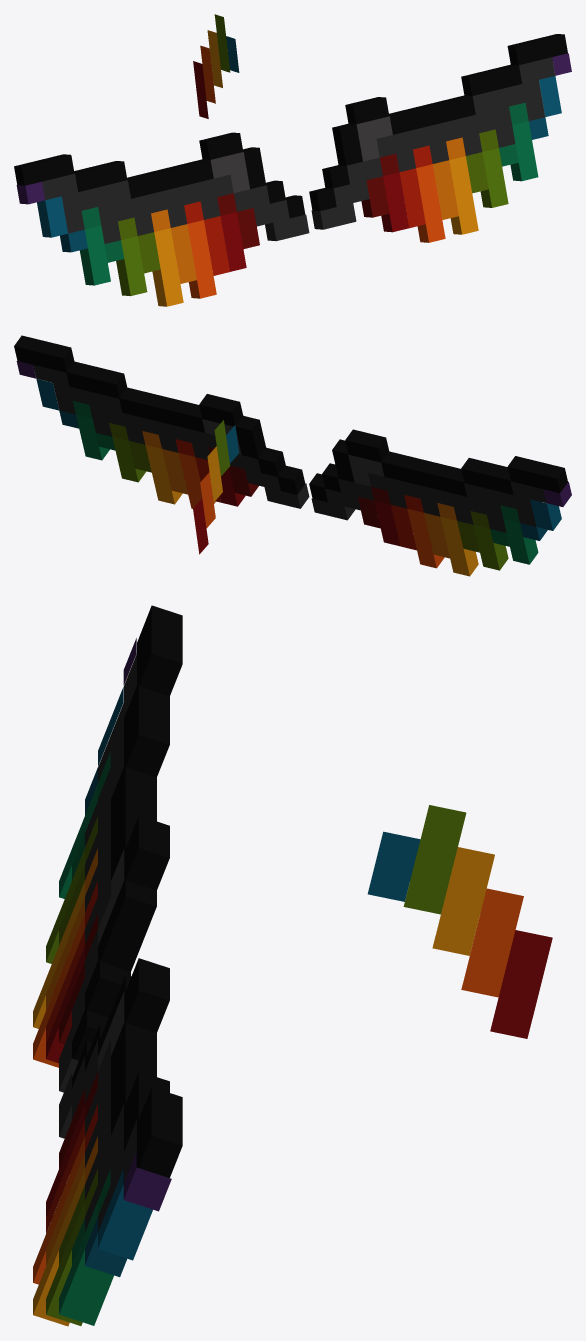
Rendered from hat_premium_PixelBird.glb.
The picture shows the model from 3 angles, top to bottom: view 1: azimuth 30°, elevation 25°; view 2: azimuth 150°, elevation 25°; view 3: azimuth 270°, elevation 25°; orthographic projection. The views are drawn at different scales.
Parts seen in each view (by area): view 1: hat_premium_PixelBird; view 2: hat_premium_PixelBird; view 3: hat_premium_PixelBird.
Boxes of the visible parts, x1,y1,x2,y2 form: hat_premium_PixelBird: (14,14,571,306); hat_premium_PixelBird: (14,335,571,576); hat_premium_PixelBird: (33,605,552,1326).
Bounding box in the file's own units: 1.01 × 0.3289 × 0.4191.
